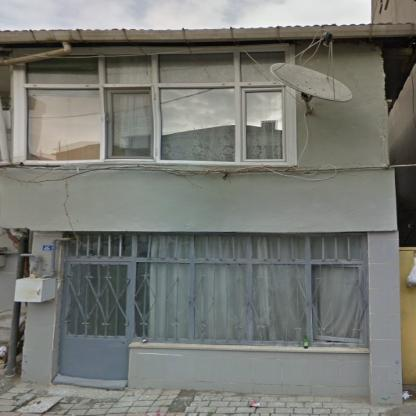door: (59, 264, 128, 377)
window: (67, 234, 360, 341), (24, 52, 284, 161)
